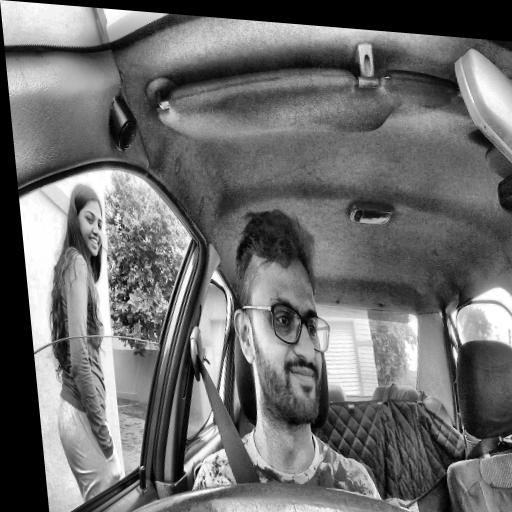awake: (223, 204, 341, 434)
